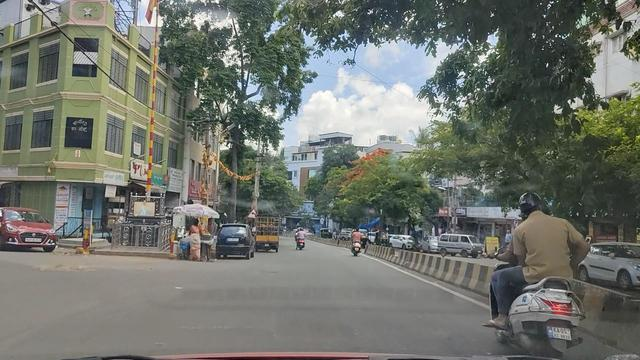LMV: (490, 197, 576, 342), (219, 220, 255, 261)
